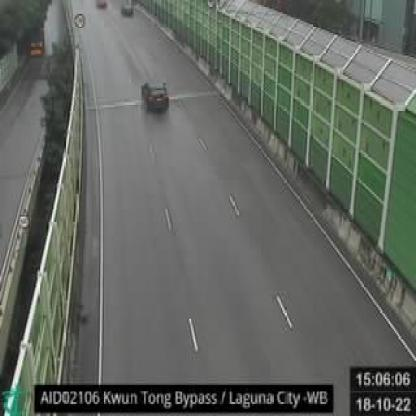Car: (140, 77, 170, 114)
